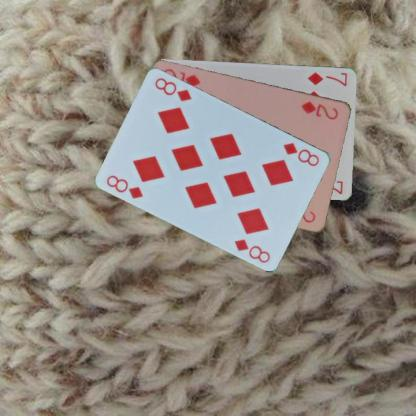2d: (298, 98, 340, 121)
7d: (306, 70, 348, 88)
8d: (280, 139, 321, 168), (104, 172, 144, 200)
